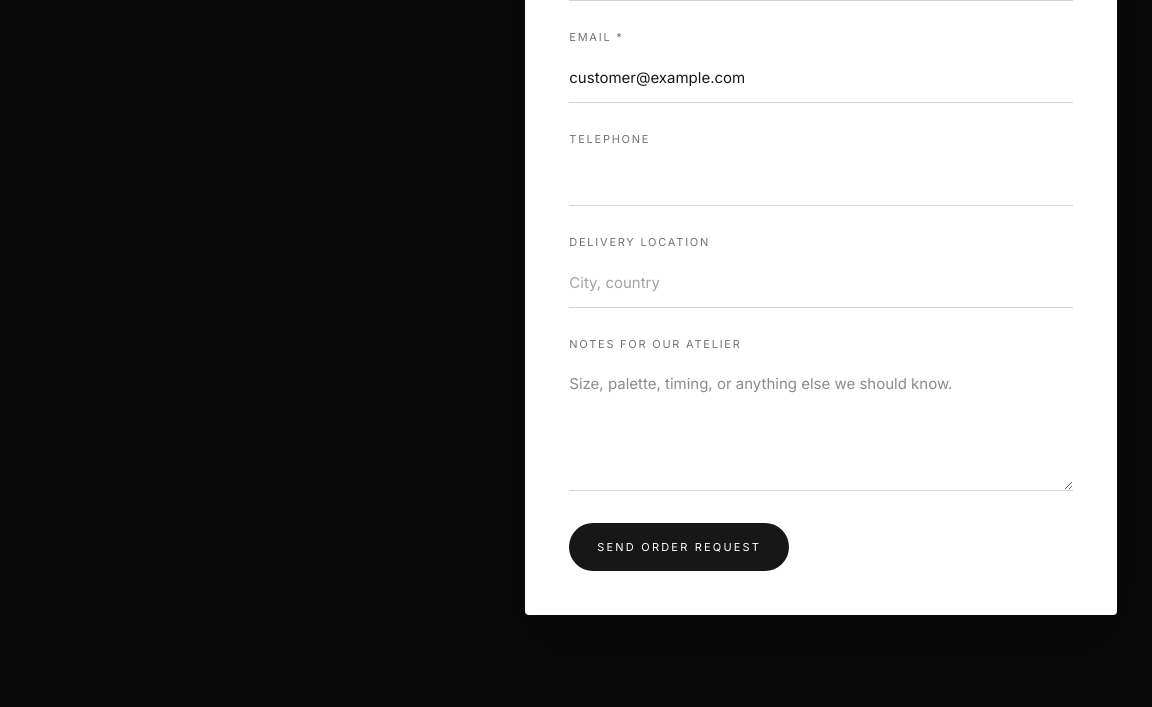
Test: bag order requests › reviews and submits every bag SKU and quantity without substituting Heritage
(page scrolled)
Click the button "Send order request" at coordinates (679, 547), box [569, 523, 789, 571]
(page scrolled)
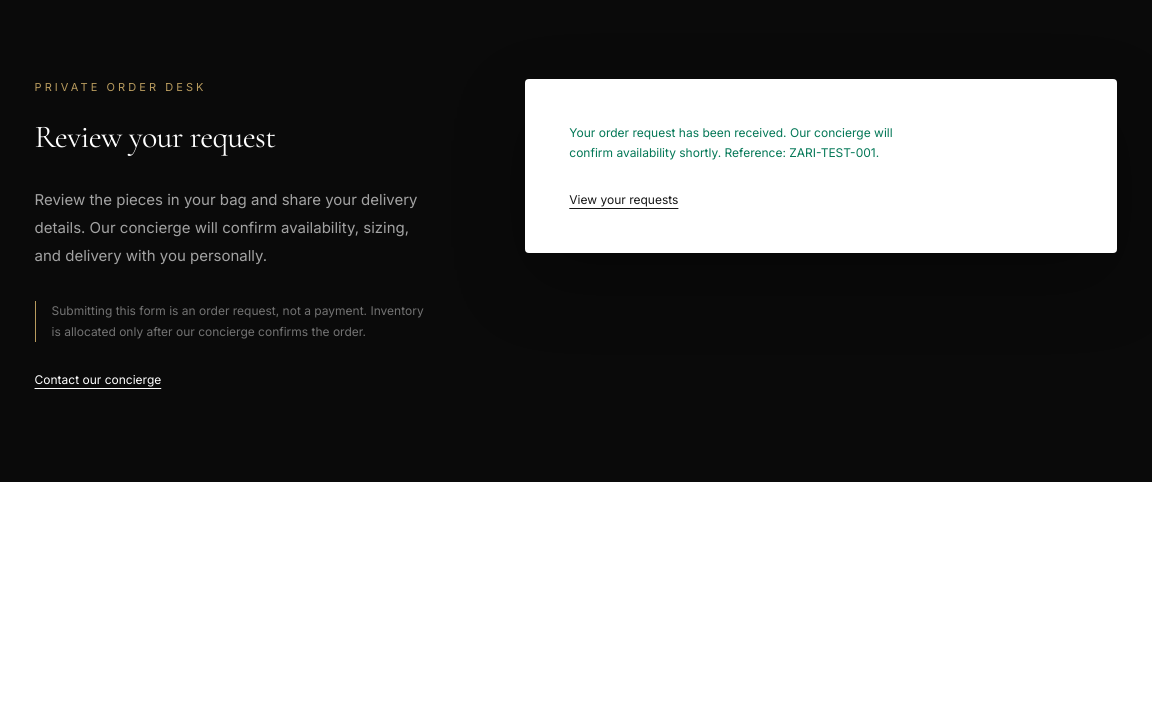
expect the text "Reference: ZARI-TEST-001" is shown: met, box [569, 125, 893, 160]
expect the button "Send order request" is gone: met
